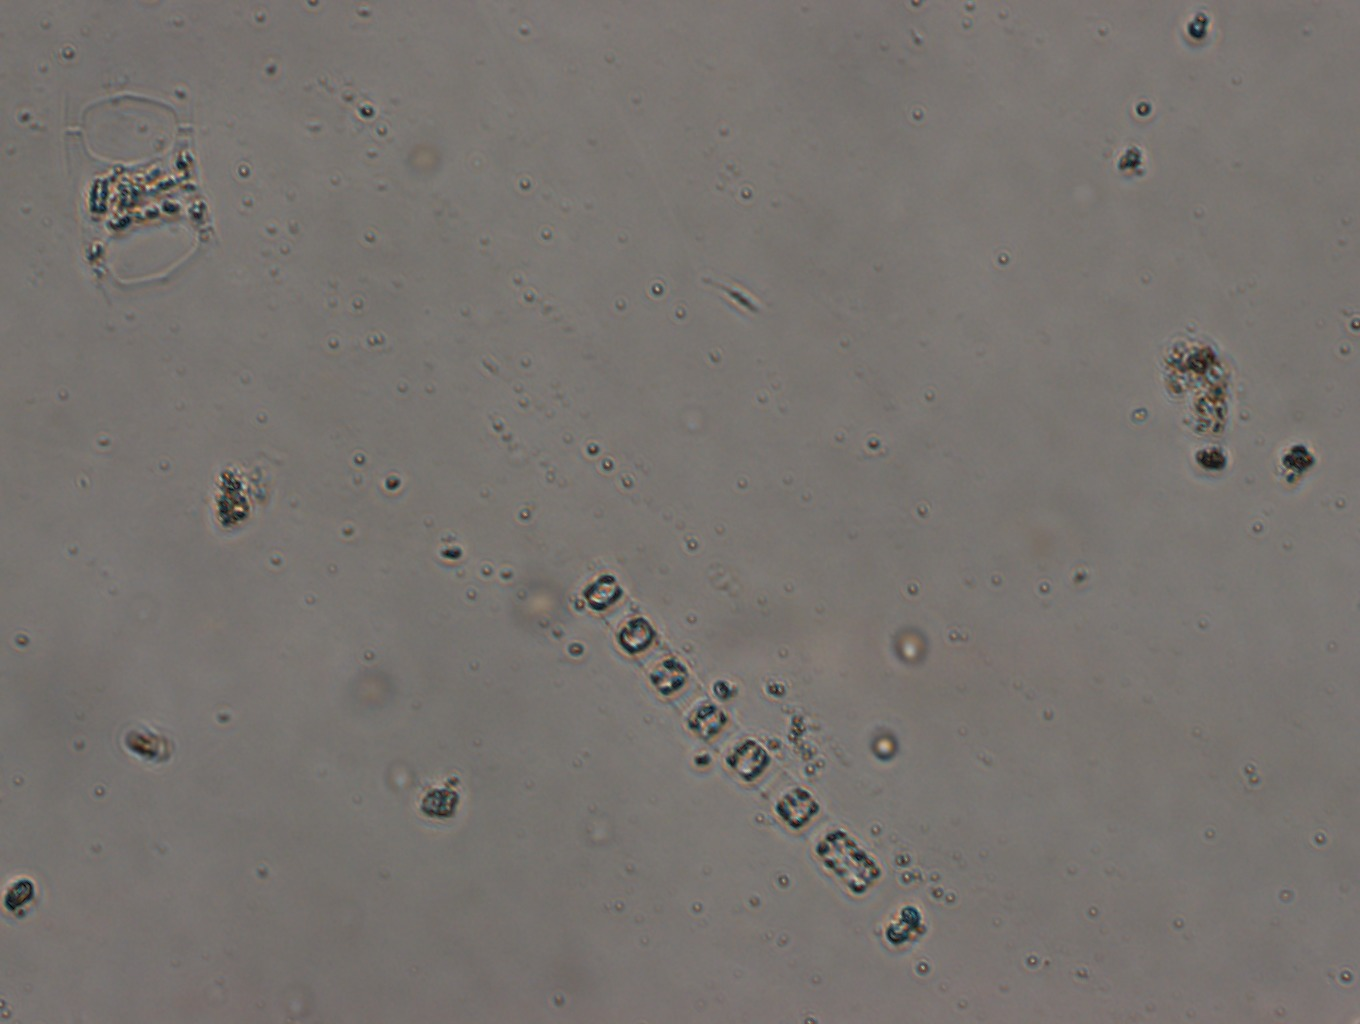eucampia: (61, 72, 227, 314)
skeletonema: (571, 555, 932, 963)
